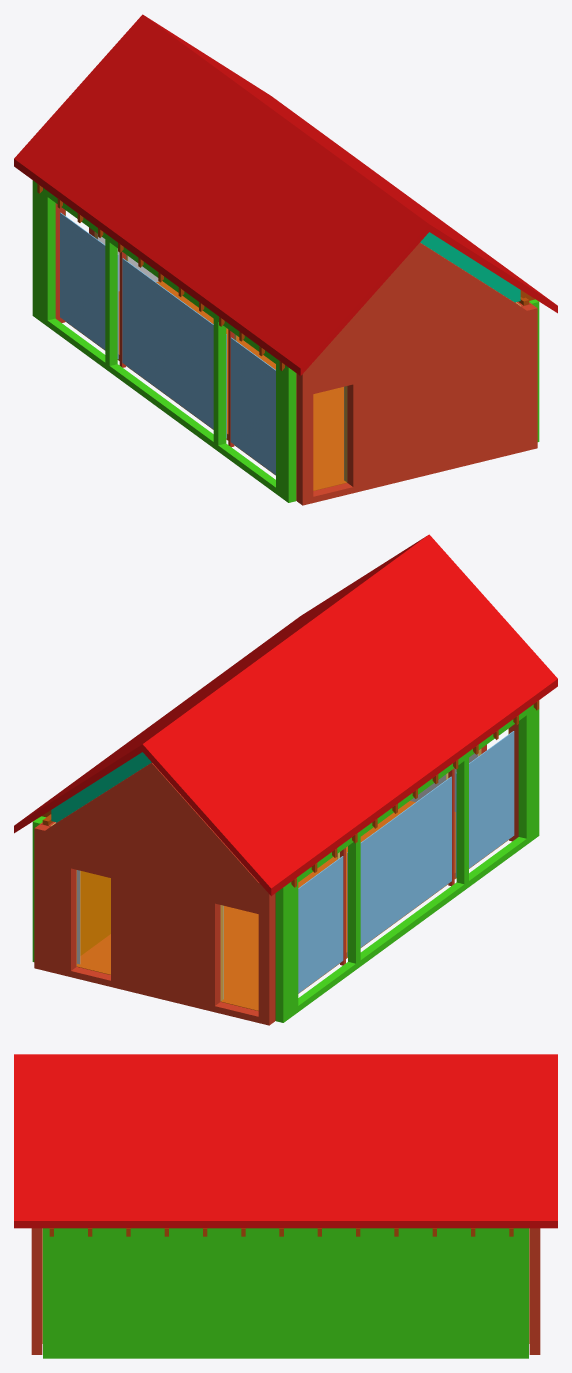
Rendered from obyvak.glb.
3 renders of one model, top to bottom at view 1: azimuth 30°, elevation 25°; view 2: azimuth 150°, elevation 25°; view 3: azimuth 270°, elevation 25°, orthographic. The views are drawn at different scales.
Visible parts, largest first — view 1: roofing, masonry (×2), glazing (×3), eps, floor, plenum_wool; view 2: roofing, masonry (×2), glazing (×3), eps, floor, furniture, plenum_wool; view 3: roofing, eps, masonry (×2).
Part boxes in pixels (x1,y1,x2,y2): roofing: [14, 14, 557, 376]; masonry (×2): [55, 203, 537, 505]; glazing (×3): [60, 212, 275, 474]; eps: [32, 180, 296, 502]; floor: [65, 281, 346, 490]; plenum_wool: [420, 232, 520, 302]; roofing: [14, 534, 557, 896]; masonry (×2): [34, 724, 518, 1025]; glazing (×3): [298, 731, 514, 993]; eps: [275, 704, 539, 1022]; floor: [77, 801, 508, 1010]; furniture: [80, 871, 110, 955]; plenum_wool: [51, 752, 151, 822]; roofing: [14, 1054, 557, 1228]; eps: [43, 1228, 528, 1358]; masonry (×2): [31, 1228, 540, 1354].
Bounding box in the file's own units: 6.44 × 6.21 × 12.43.
